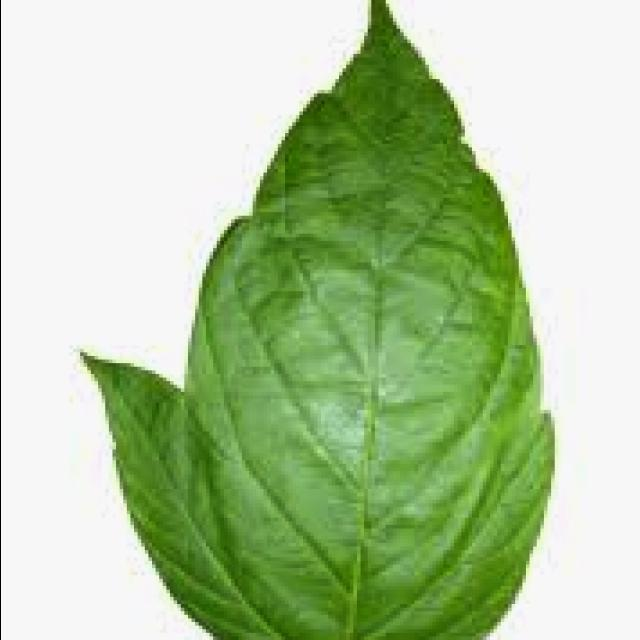leaf: (77, 0, 556, 638)
